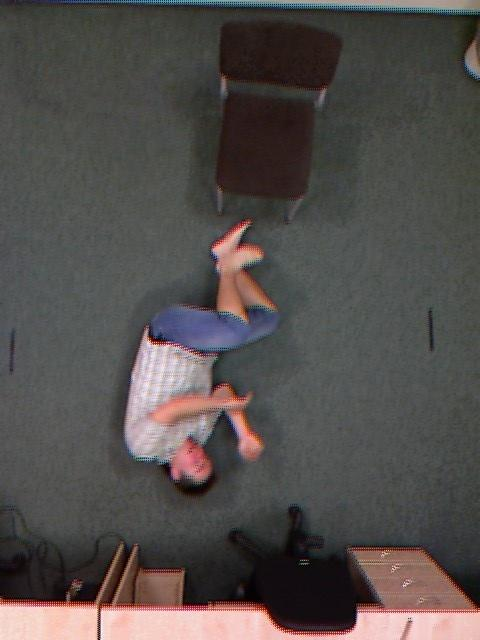fall: (96, 249, 311, 478)
